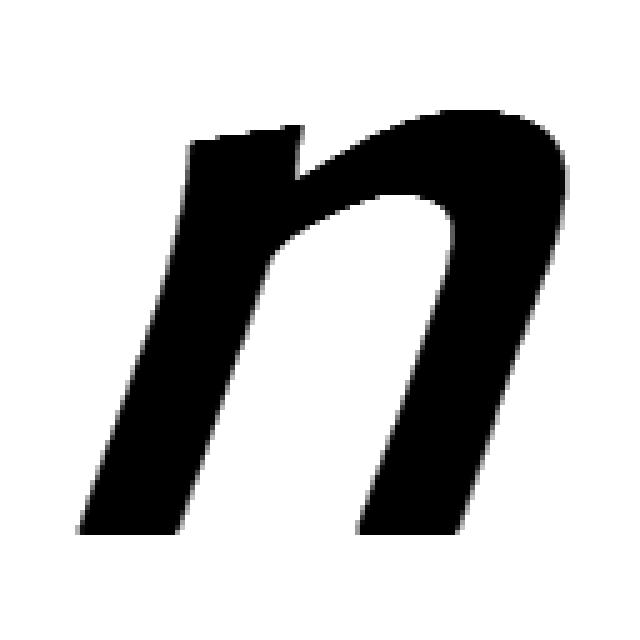N: (65, 100, 575, 545)
